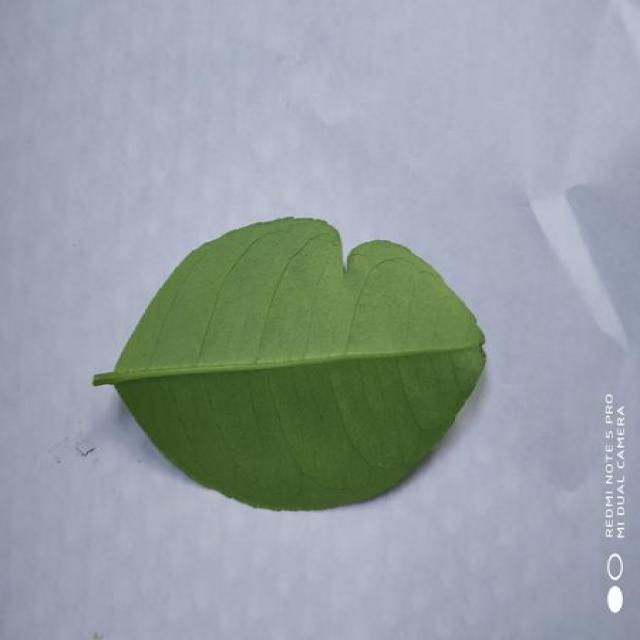citron lime: (93, 218, 483, 509)
